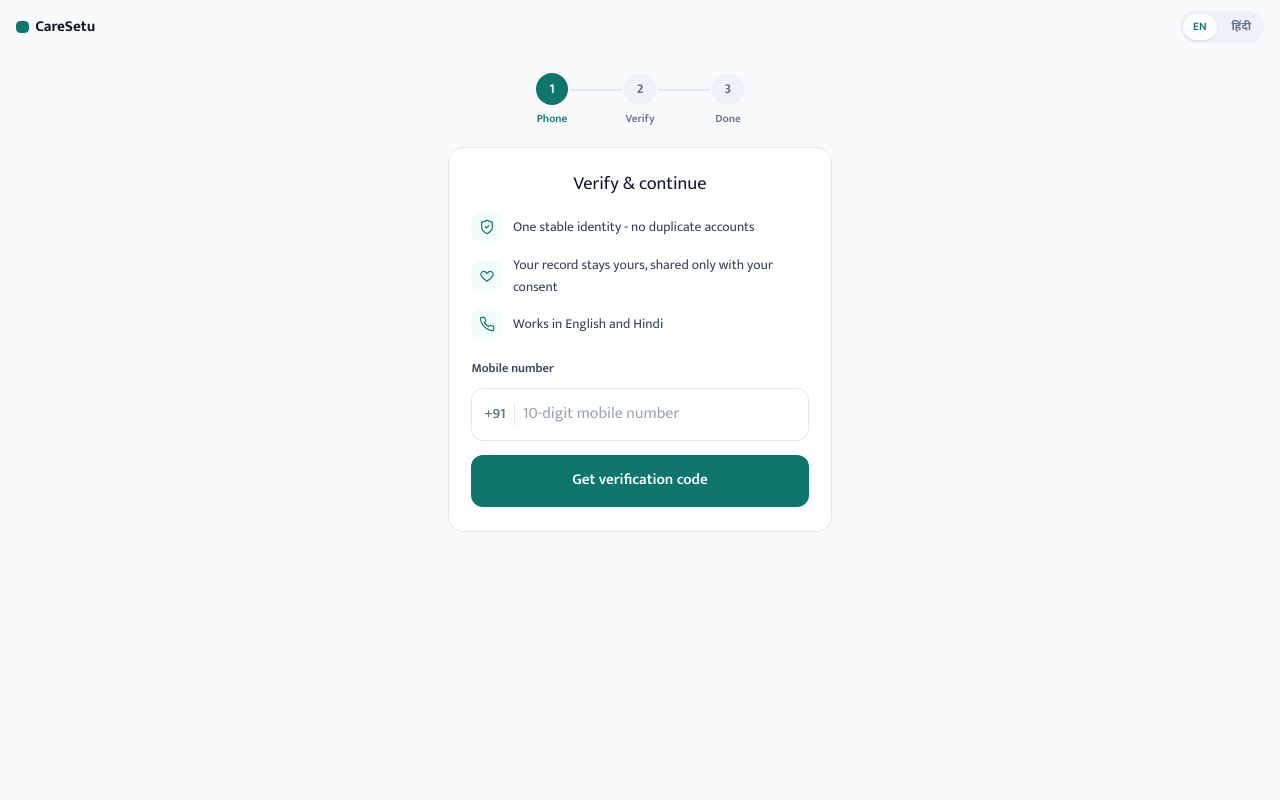
it: PatientAuthWizard - register refusal states › cooldown outcome stays on the phone step with the live countdown
Type "9876543210" into the field with placeholder "10-digit mobile number" at (659, 414), box [523,389,796,440]
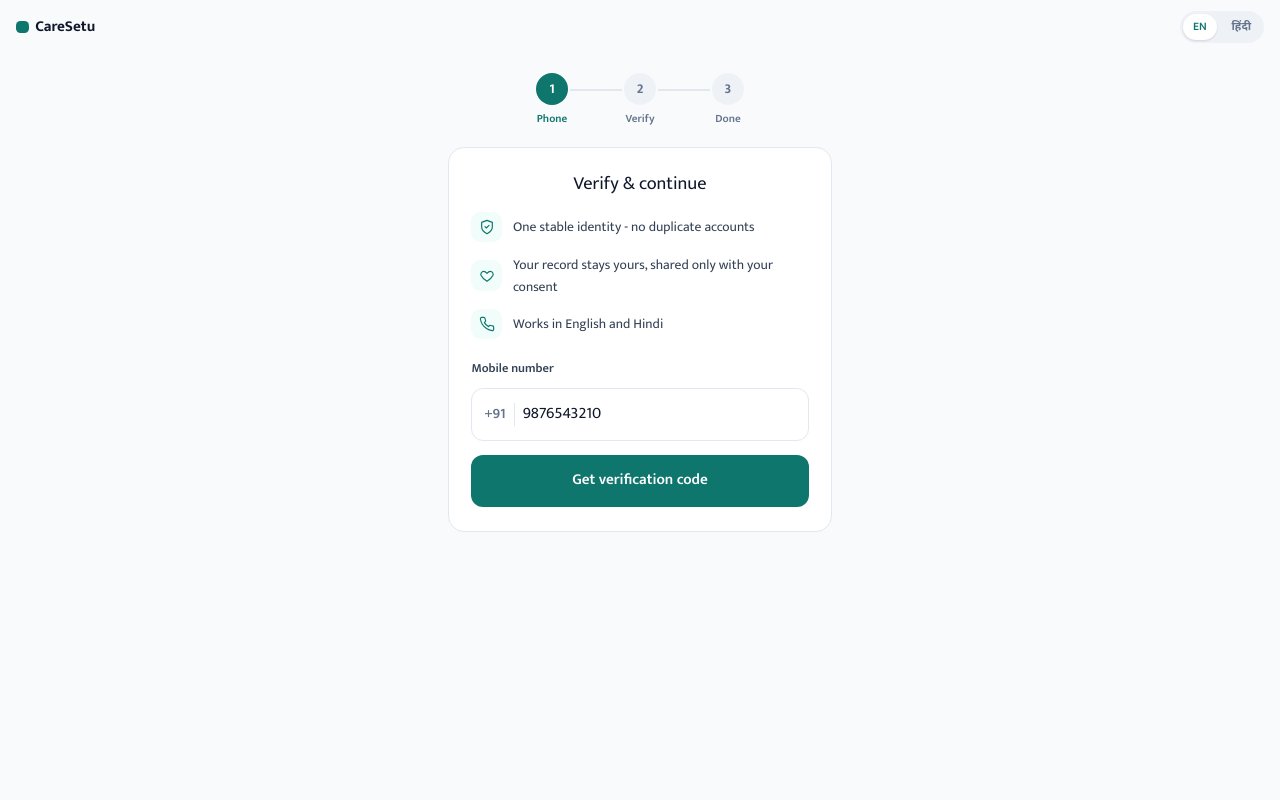
Click the button "Get verification code" at (640, 481), box [471,455,809,507]
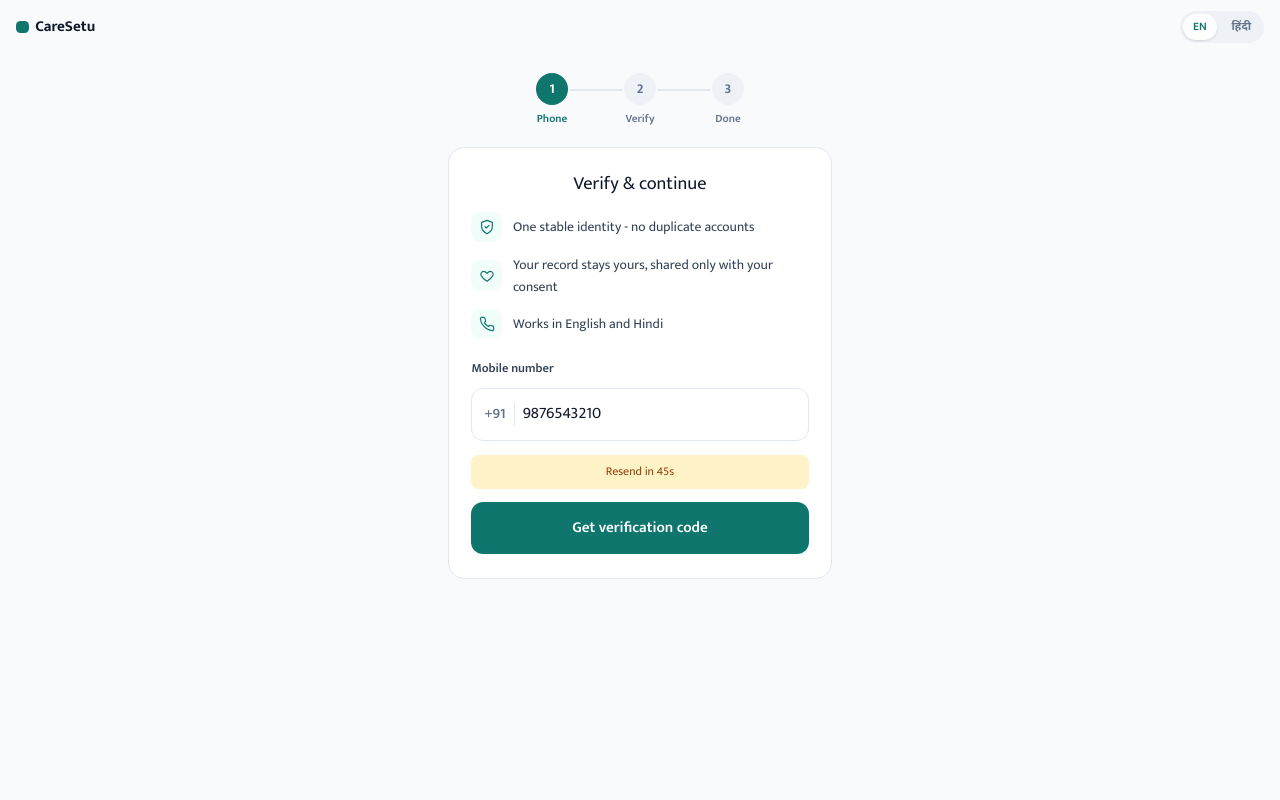
Expected: the text "Resend in 45s" is shown, [471,455,809,489]
